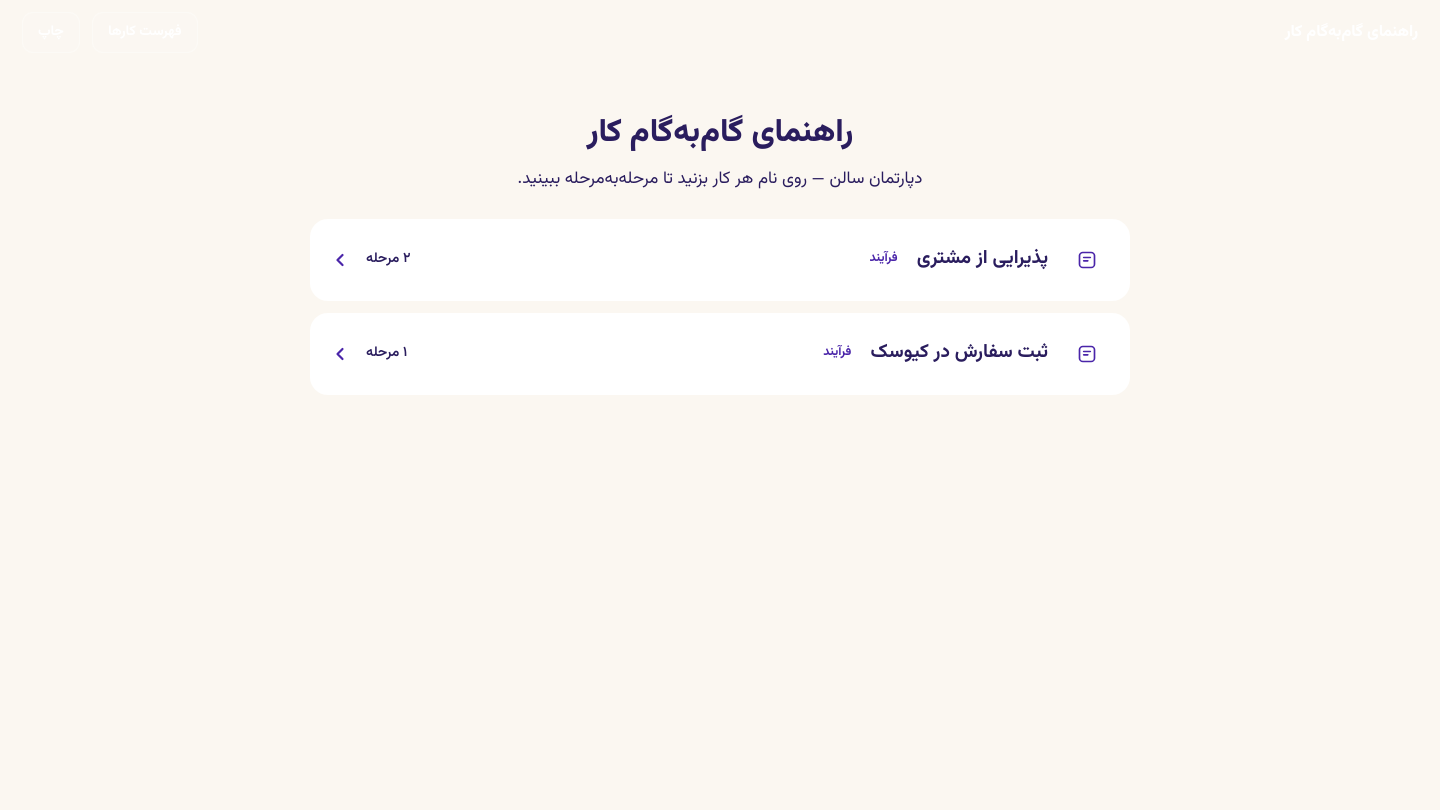
it: StepsApp › walks into a subprocess and back out through the breadcrumb
Click the text "پذیرایی از مشتری" at (959, 259), box 870,244 -> 1048,273
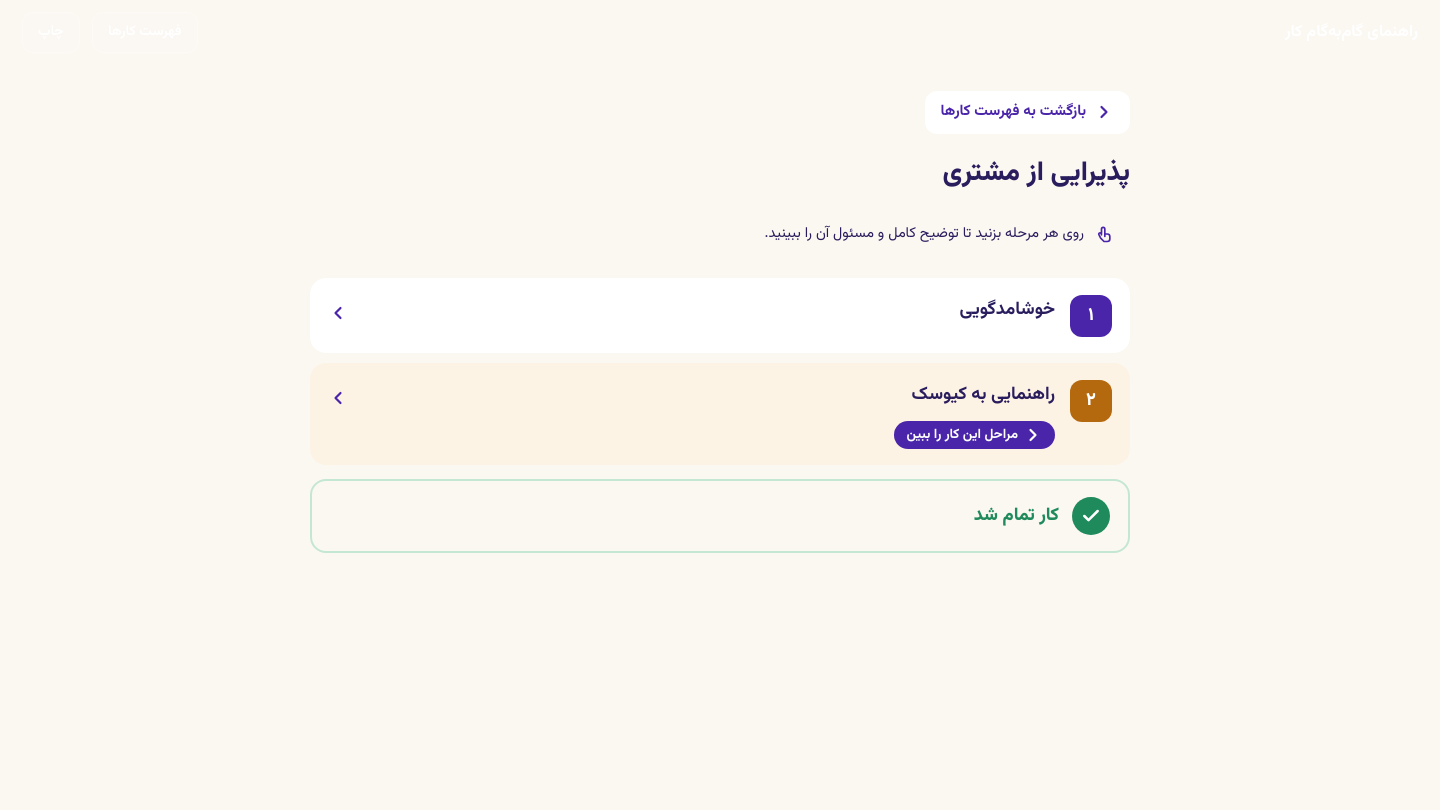
Click the text "راهنمایی به کیوسک" at (983, 395), box 912,381 -> 1055,409
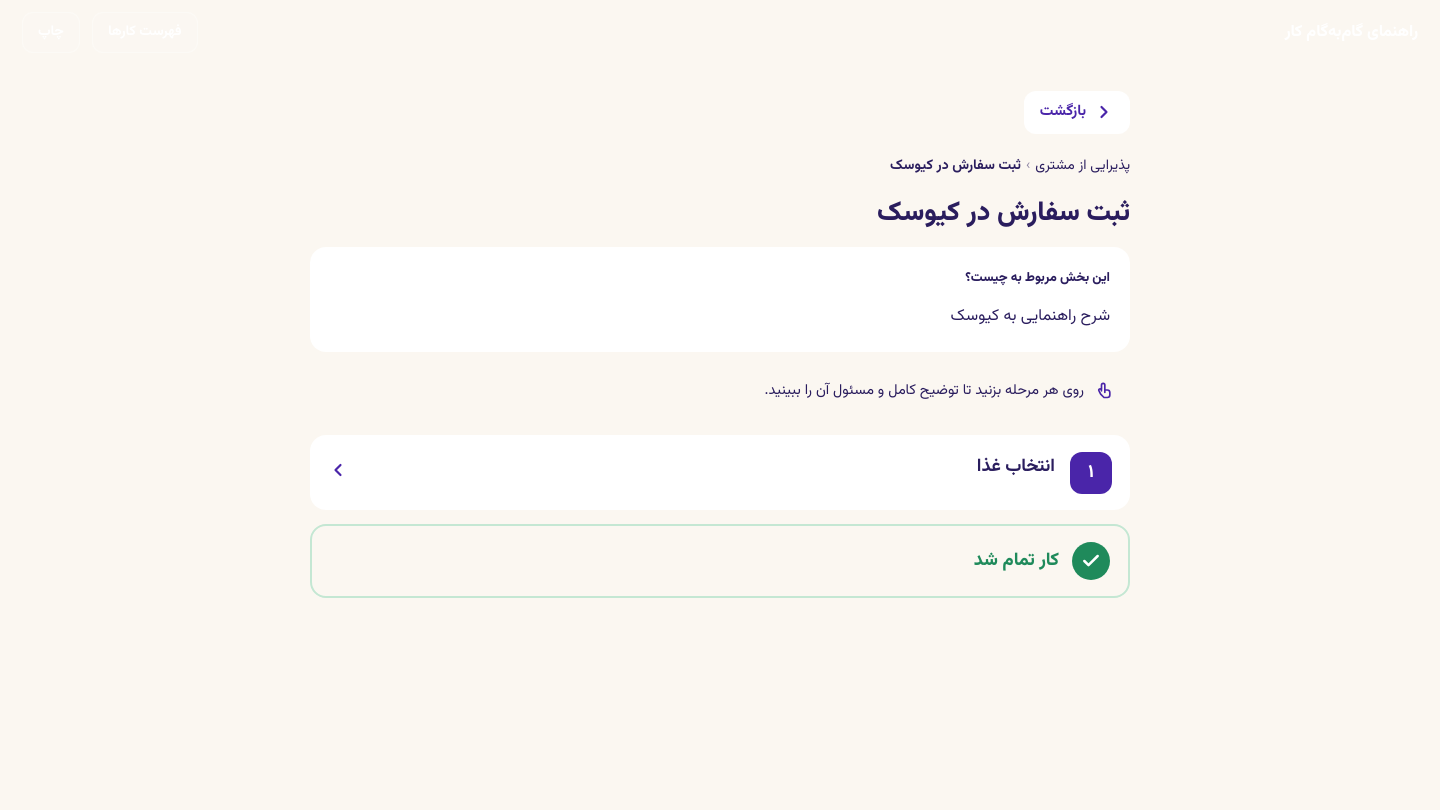
Now the heading "ثبت سفارش در کیوسک" is shown, box 877,192 -> 1130,234
Now the text "انتخاب غذا" is shown, box 977,453 -> 1055,481
Click the button "بازگشت" at (1077, 112), box 1024,91 -> 1130,134
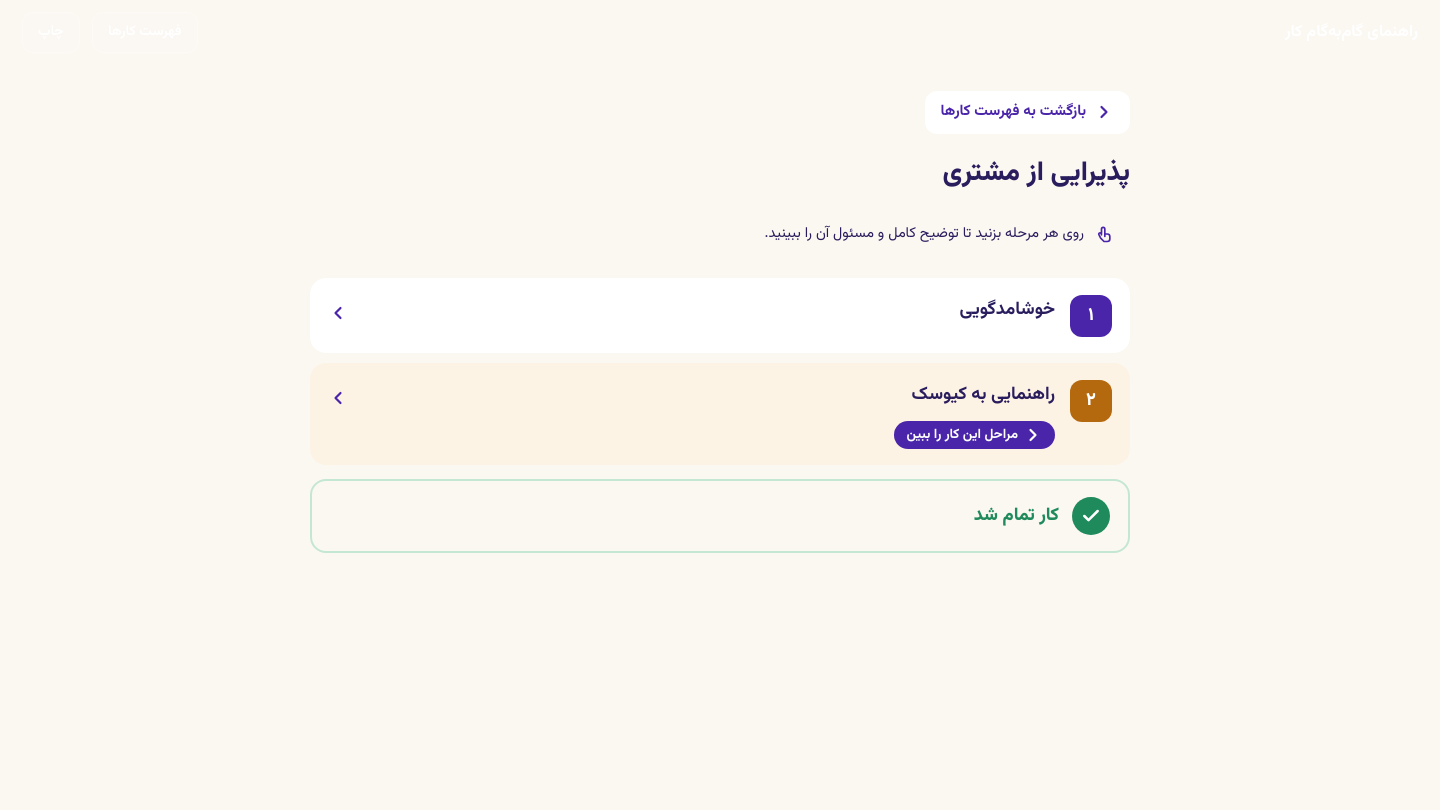
Now the heading "پذیرایی از مشتری" is shown, box 942,152 -> 1130,194
